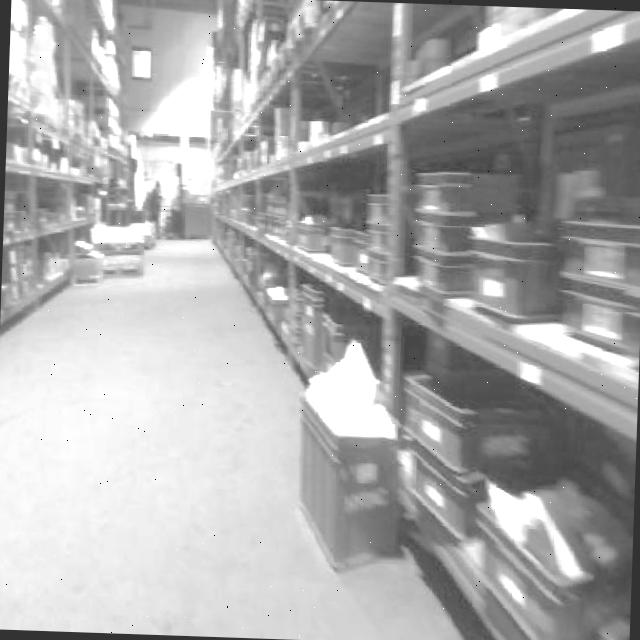ground: (0, 226, 506, 640)
pallet: (192, 0, 640, 640)
